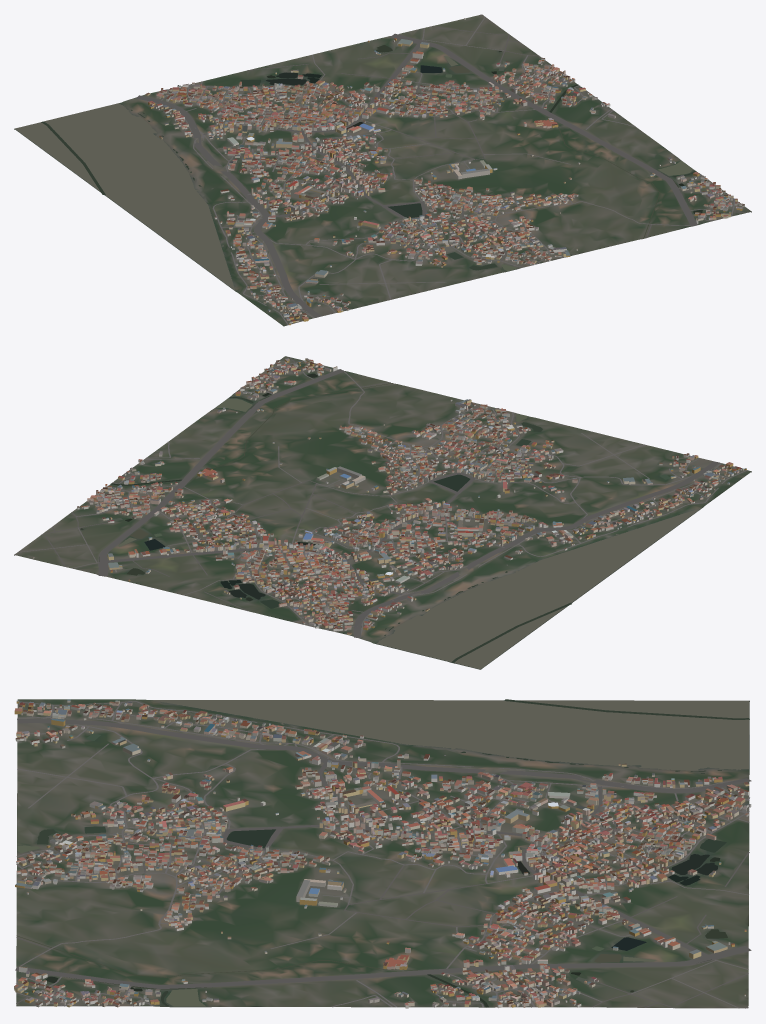
The picture shows the model from 3 angles, top to bottom: view 1: azimuth 30°, elevation 25°; view 2: azimuth 150°, elevation 25°; view 3: azimuth 270°, elevation 25°; orthographic projection. The views are drawn at different scales.
Parts seen in each view (by area): view 1: ground, buildings, water, roads; view 2: ground, buildings, water, roads; view 3: ground, buildings, water, roads.
Boxes of the visible parts, x1,y1,x2,y2 form: ground: (14, 14, 751, 326); buildings: (145, 18, 744, 325); water: (15, 45, 702, 292); roads: (136, 14, 747, 324); ground: (14, 356, 751, 669); buildings: (33, 358, 746, 634); water: (80, 373, 701, 669); roads: (15, 357, 747, 637); ground: (16, 699, 749, 1008); buildings: (14, 699, 751, 1008); water: (16, 699, 749, 1007); roads: (15, 701, 751, 1008).
Size of the model in its own units: 1407 by 29.47 by 1413.
